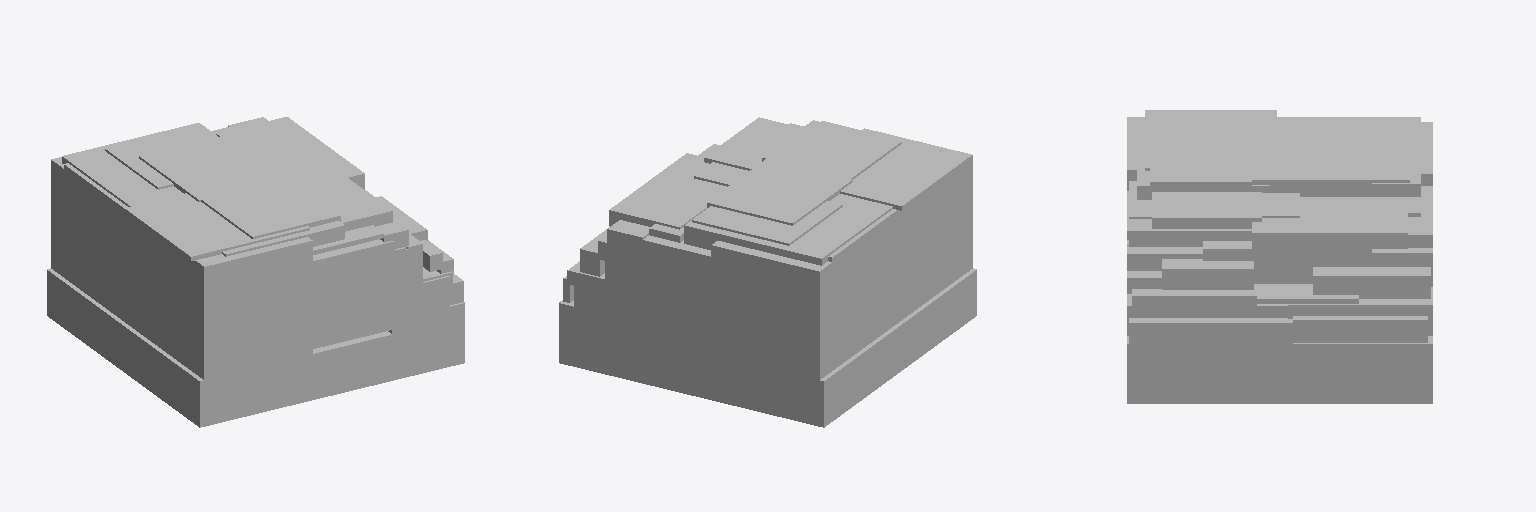
The model's file is 3d fon 2.1-5.obj.
3 views of the same model, side by side, from view 1: azimuth 30°, elevation 25°; view 2: azimuth 150°, elevation 25°; view 3: azimuth 270°, elevation 25° (orthographic).
Visible parts, largest first — view 1: object 1; view 2: object 1; view 3: object 1.
Boxes of the visible parts, x1,y1,x2,y2 form: object 1: [47, 117, 464, 427]; object 1: [559, 117, 976, 427]; object 1: [1127, 110, 1432, 403].
Bounding box in the file's own units: 12 × 7.2 × 12.